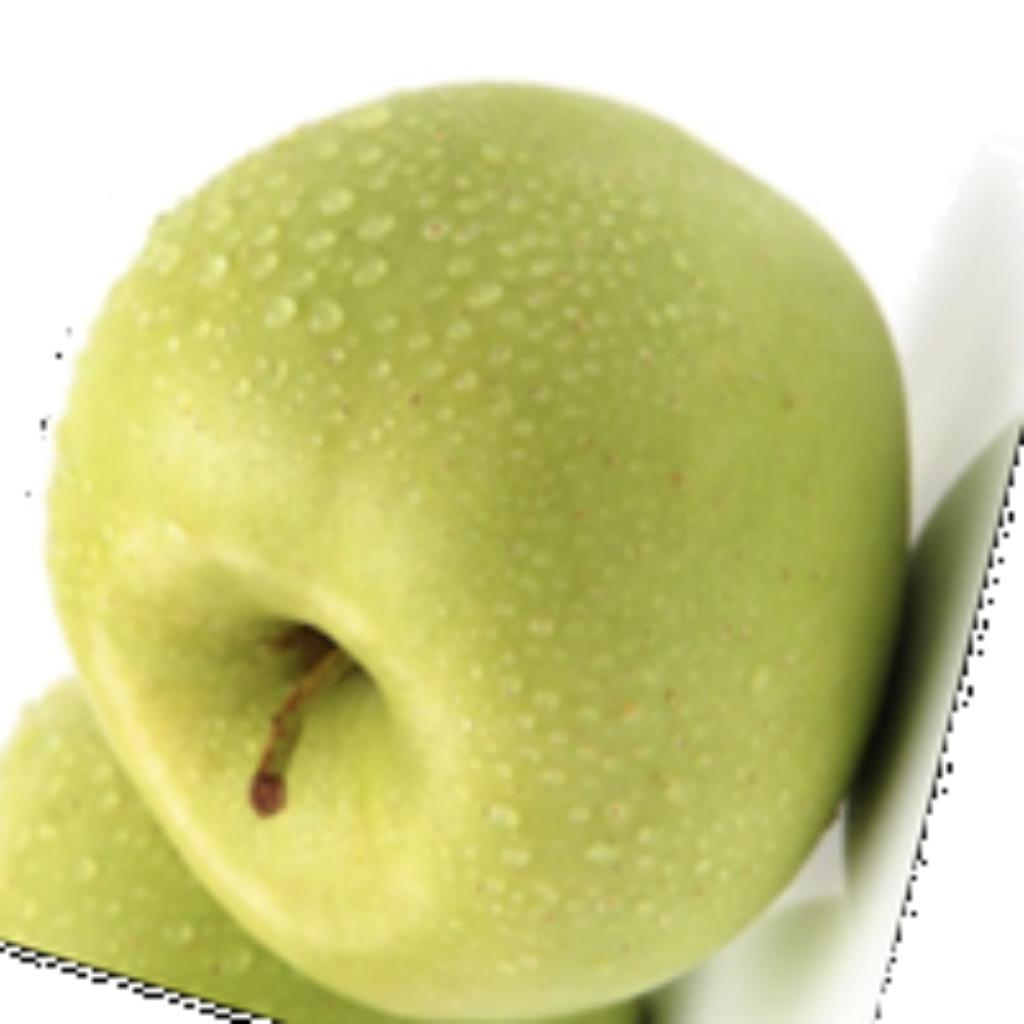apple: (0, 72, 1019, 1019)
